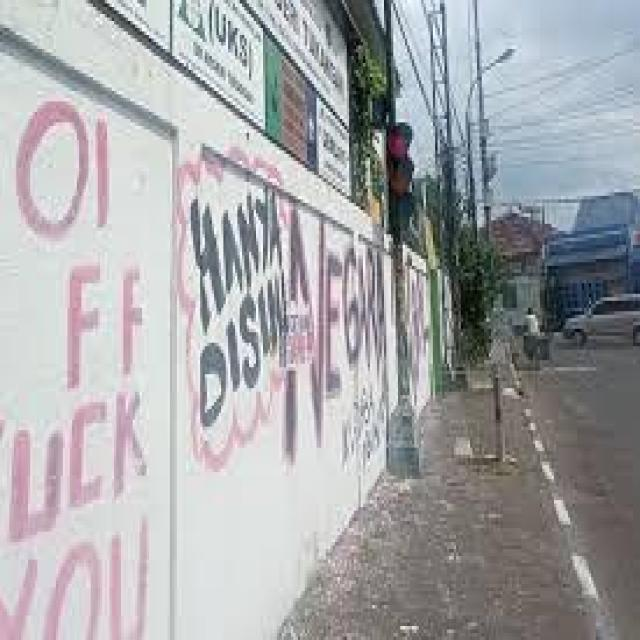nonspitting: (0, 94, 151, 636), (177, 147, 290, 472), (286, 207, 388, 462)
